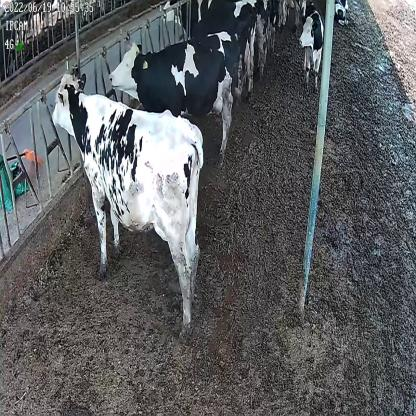cow: (49, 66, 204, 338), (108, 30, 241, 174), (156, 0, 258, 103), (298, 10, 325, 96), (334, 0, 350, 28)
